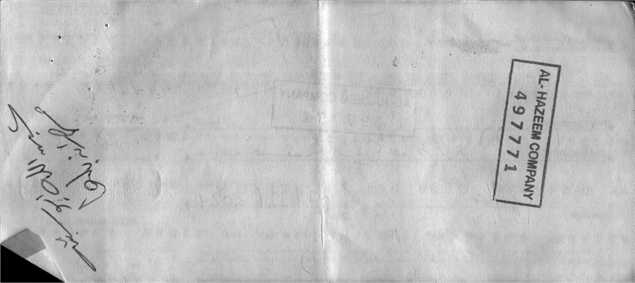stamp: (491, 57, 563, 208)
